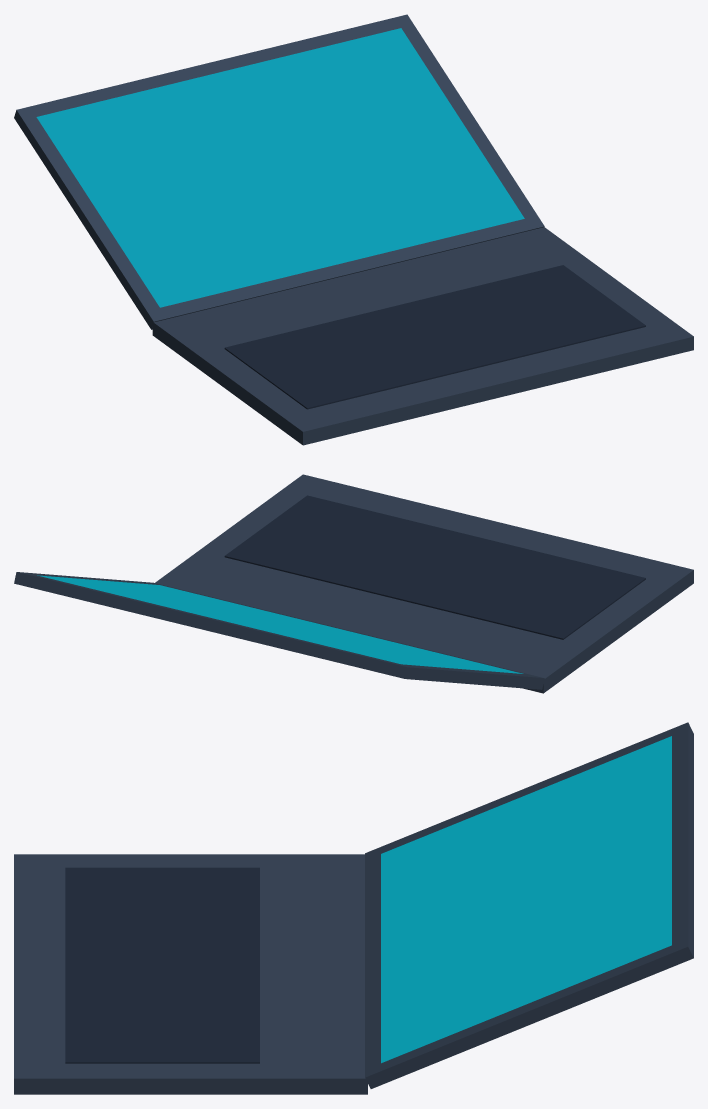
File: laptop.glb
The picture shows the model from 3 angles, top to bottom: view 1: azimuth 30°, elevation 25°; view 2: azimuth 150°, elevation 25°; view 3: azimuth 270°, elevation 25°; orthographic projection. The views are drawn at different scales.
Bounding box in the file's own units: 1.5 × 0.4617 × 1.92.
